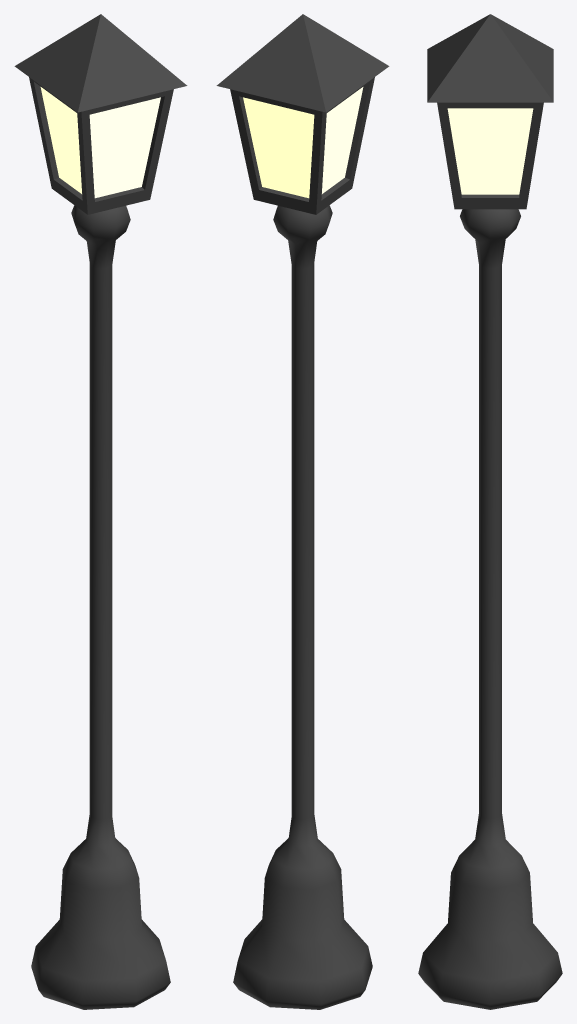
Rendered from lightpost.fbx.
3 views of the same model, side by side, from view 1: azimuth 30°, elevation 25°; view 2: azimuth 150°, elevation 25°; view 3: azimuth 270°, elevation 25° (orthographic).
Visible parts, largest first — view 1: lightpost; view 2: lightpost; view 3: lightpost.
Part boxes in pixels (left/top/right/bottom): lightpost: left=14, top=14, right=187, bottom=1009; lightpost: left=216, top=14, right=389, bottom=1009; lightpost: left=418, top=14, right=562, bottom=1009.
Bounding box in the file's own units: 59.01 × 436 × 59.01.
